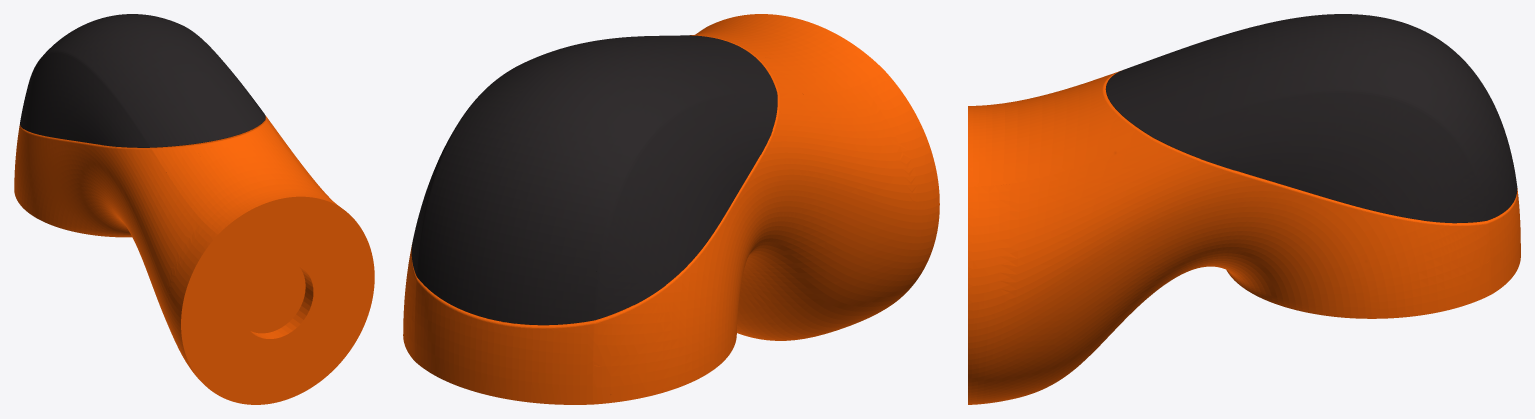
The picture shows the model from 3 angles, left to right: view 1: azimuth 30°, elevation 25°; view 2: azimuth 150°, elevation 25°; view 3: azimuth 270°, elevation 25°; orthographic projection. The views are drawn at different scales.
Parts seen in each view (by area): view 1: <STL_BINARY>; view 2: <STL_BINARY>; view 3: <STL_BINARY>.
Part boxes in pixels (left/top/right/bottom): <STL_BINARY>: left=14, top=14, right=374, bottom=404; <STL_BINARY>: left=403, top=14, right=939, bottom=404; <STL_BINARY>: left=968, top=14, right=1520, bottom=404.
Size of the model in its own units: 136 by 183 by 252.
Materials: 1 (1 with a texture image).
